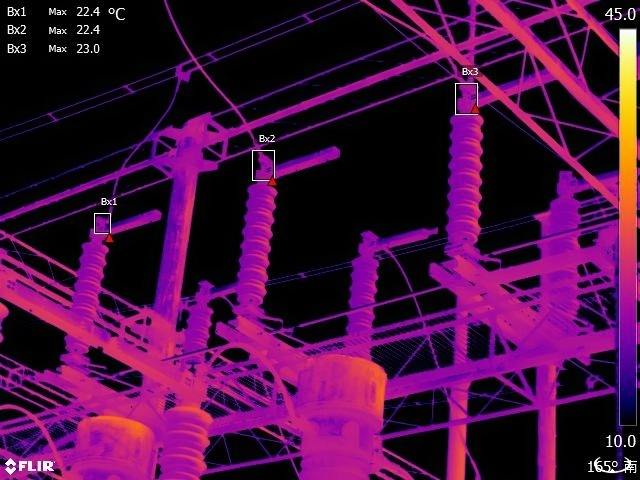clamp: (169, 58, 193, 82)
current transformer: (291, 348, 401, 480), (64, 411, 158, 480)
post insulator: (439, 111, 495, 248), (232, 185, 284, 309), (64, 239, 115, 353), (540, 197, 586, 316), (159, 407, 223, 480), (337, 259, 383, 347), (179, 305, 215, 358)
switch: (1, 271, 216, 407), (450, 63, 566, 118), (249, 136, 353, 186), (85, 199, 166, 246), (358, 215, 437, 260), (193, 275, 249, 309)
